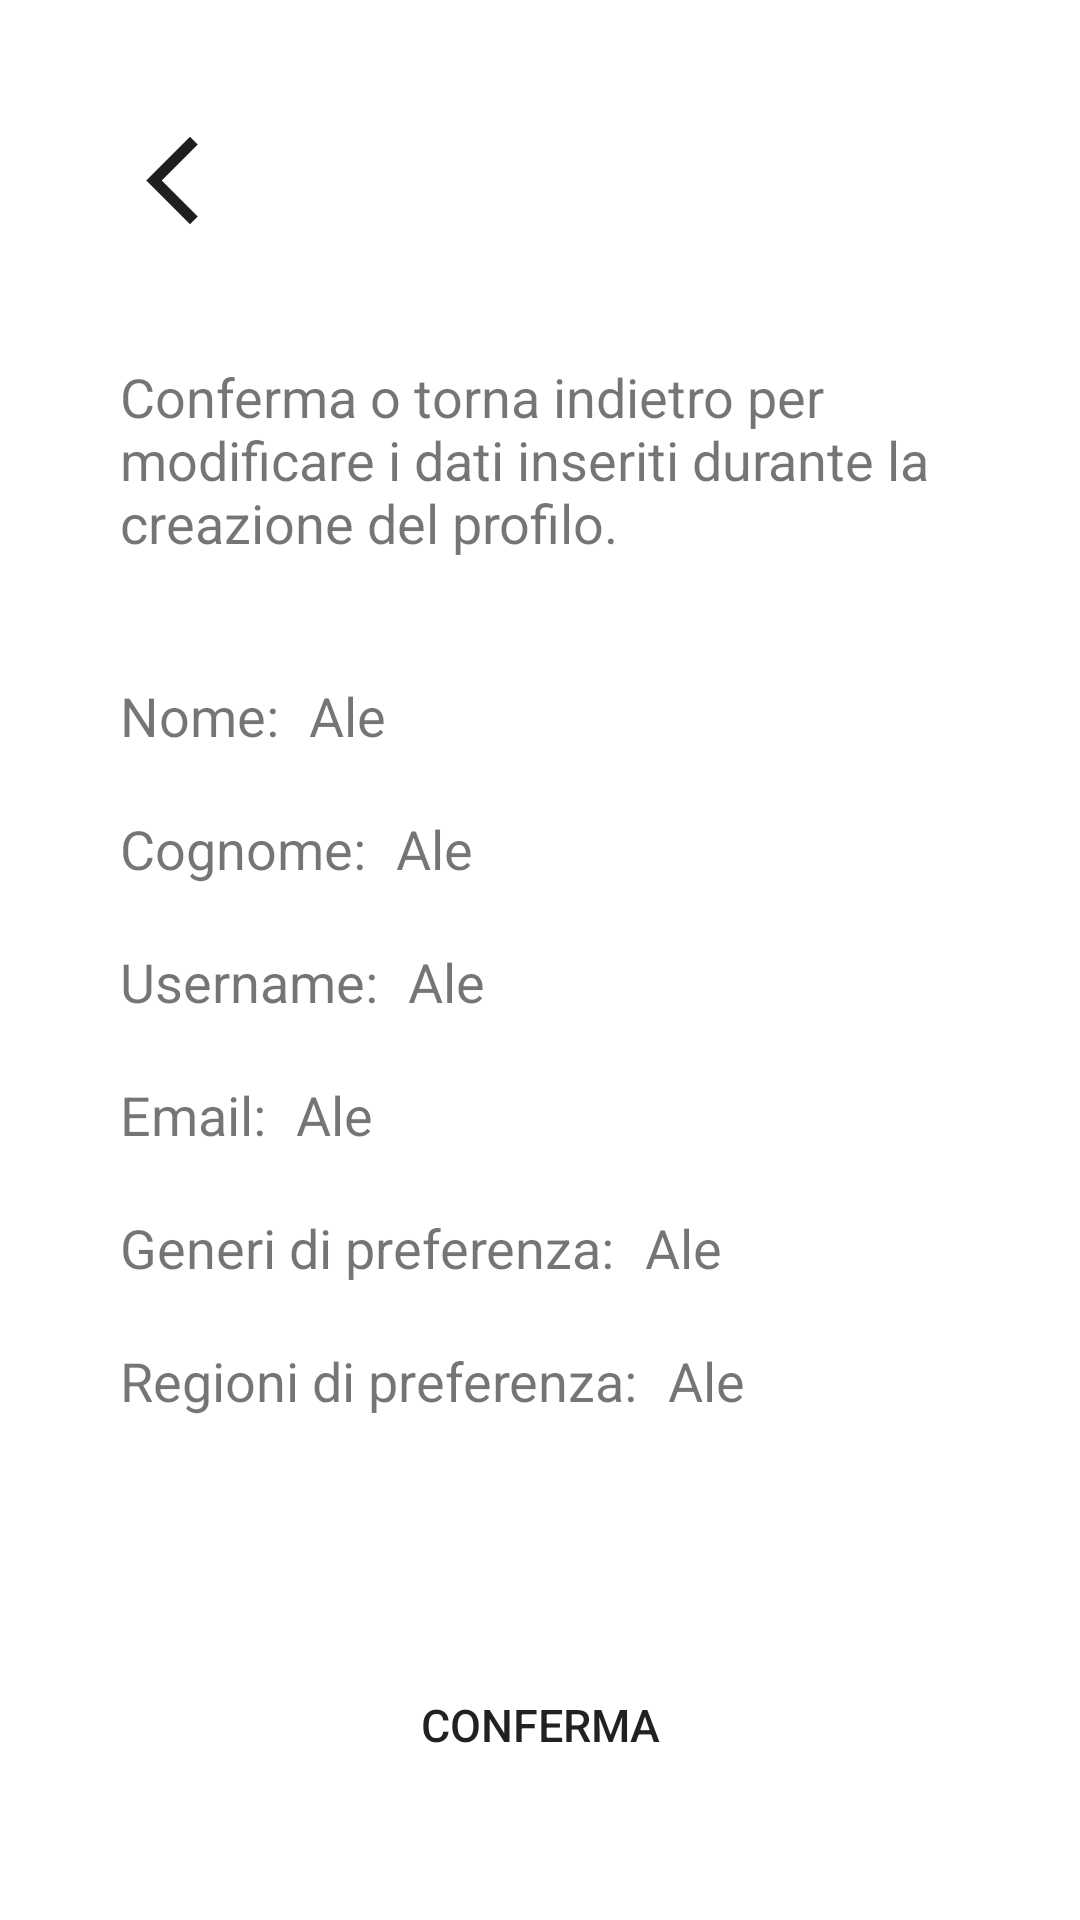

Point at icon controls on the screen. Image size 1080 x 1920, points as (x,y).
arrow back: (172,180)
